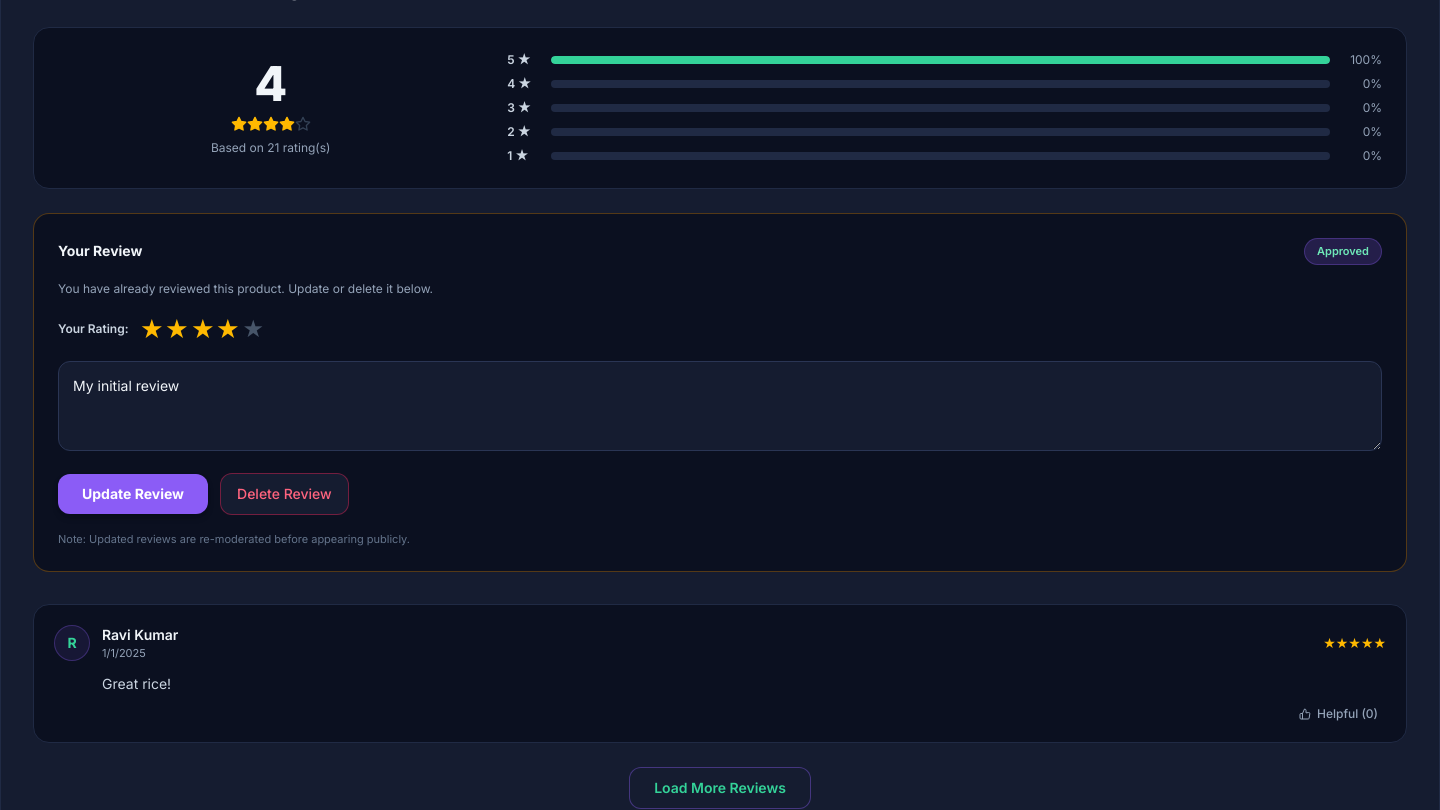
it: ProductDetail Review Edit/Delete › updates the review via PUT when Update Review is clicked and reverts to awaiting-approval state
(page scrolled)
Replace the text in the text box showing "My initial review" with "Updated comment": (720, 406) [58,360,1382,450]
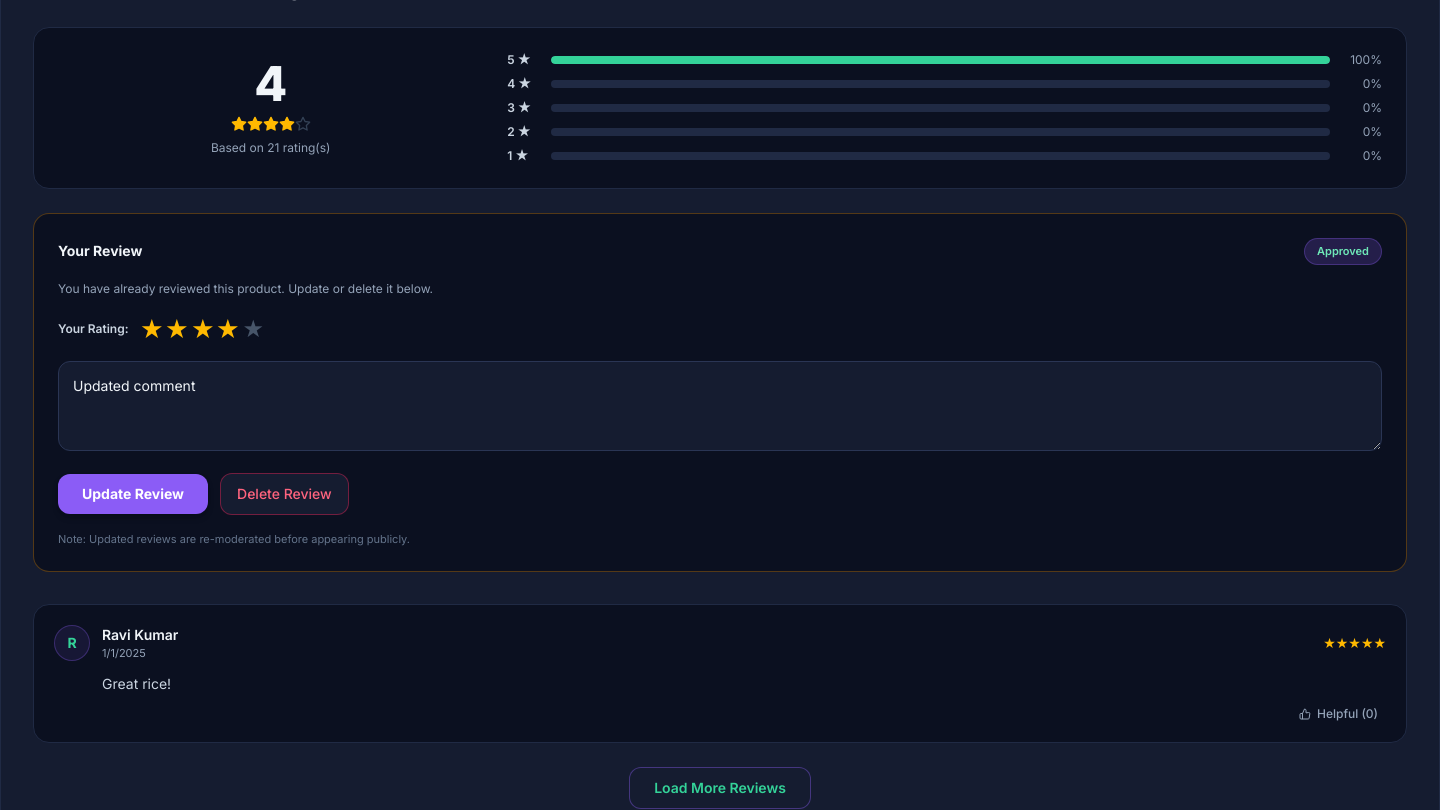
Click the button "Update Review": (133, 494) [58,474,208,514]
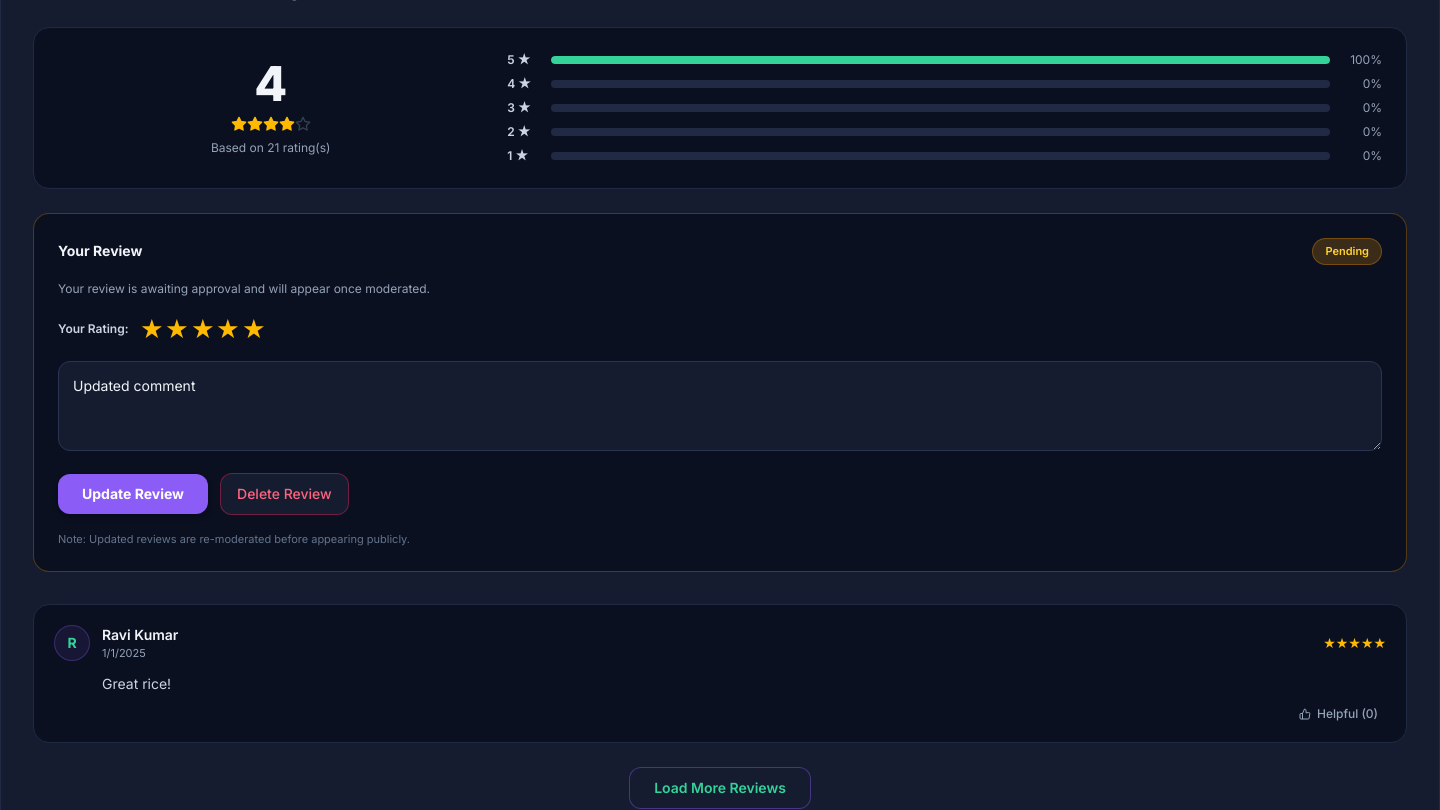
Now the text "Your review is awaiting approval and will appear once moderated." is shown, box [58,280,430,296]
